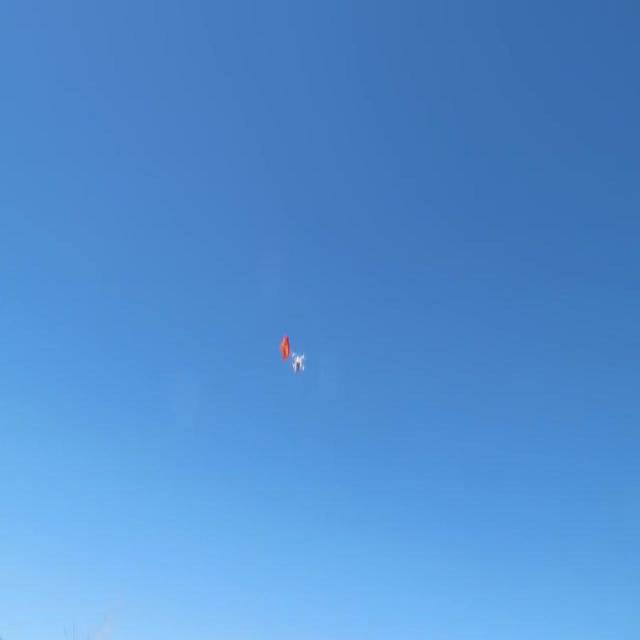UAV: (292, 351, 304, 373)
